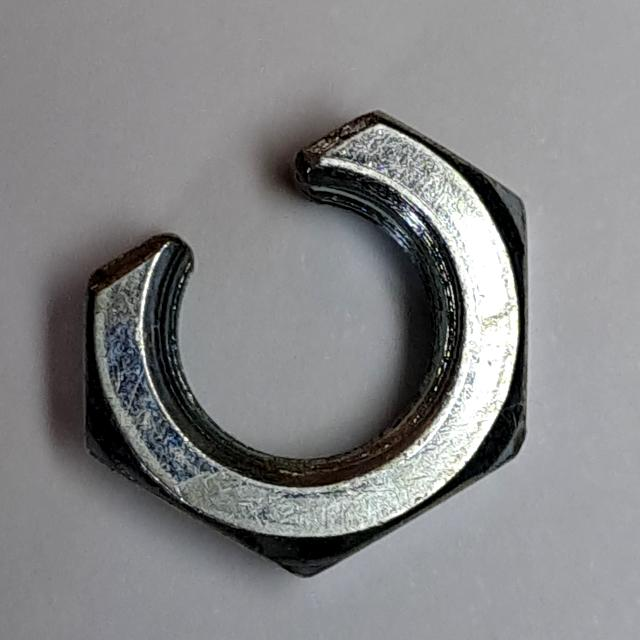Fracture: (74, 93, 546, 590)
